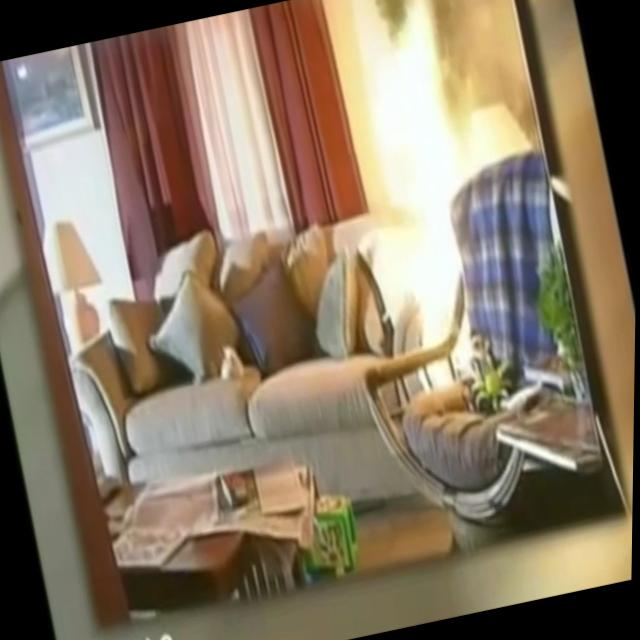fire: (339, 1, 510, 397)
